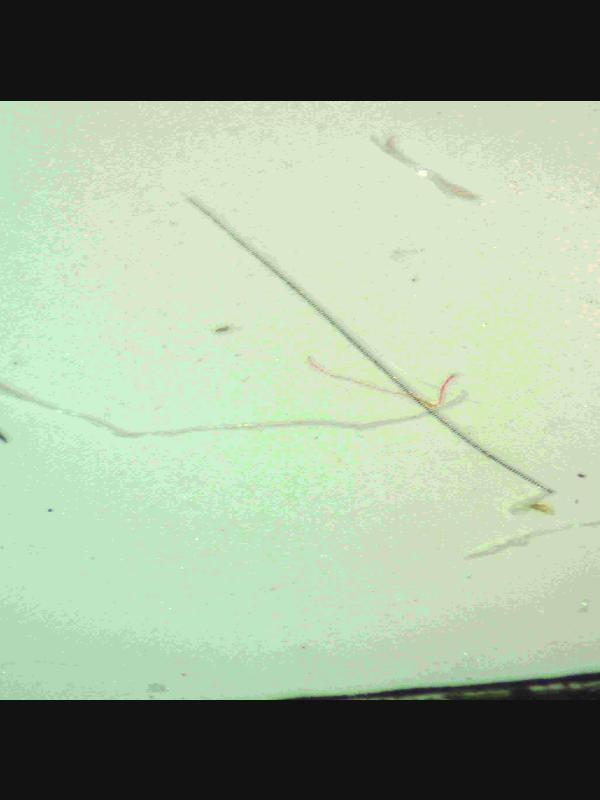microplastic: (0, 103, 600, 698), (0, 192, 563, 517)
